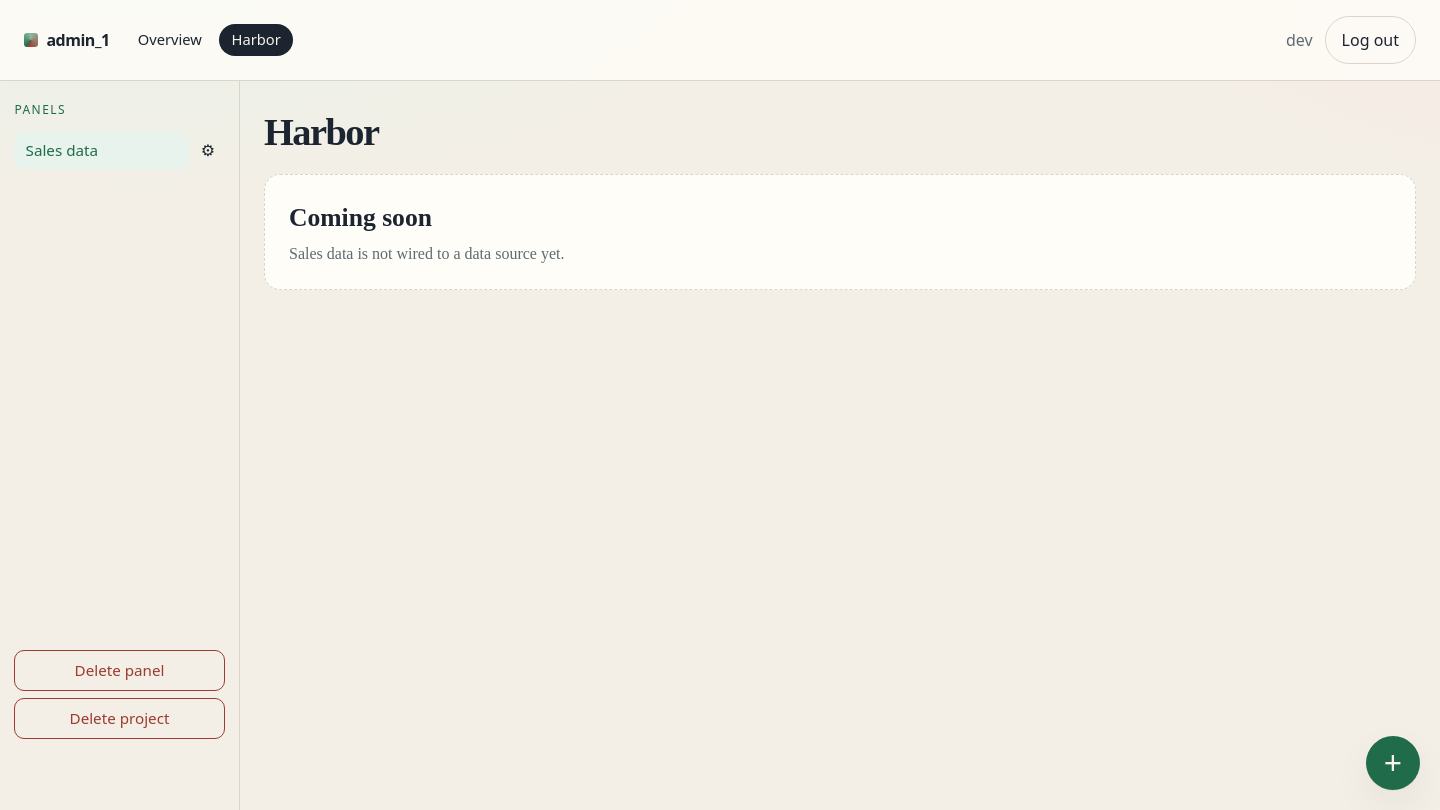
Test: sales data panel › shows fixture revenue after Sales data settings are set to Fake
Expected: the heading "Coming soon" is shown, [289,203,432,232]
Click the link named "Sales data settings": point(208, 150) [201,142,215,159]
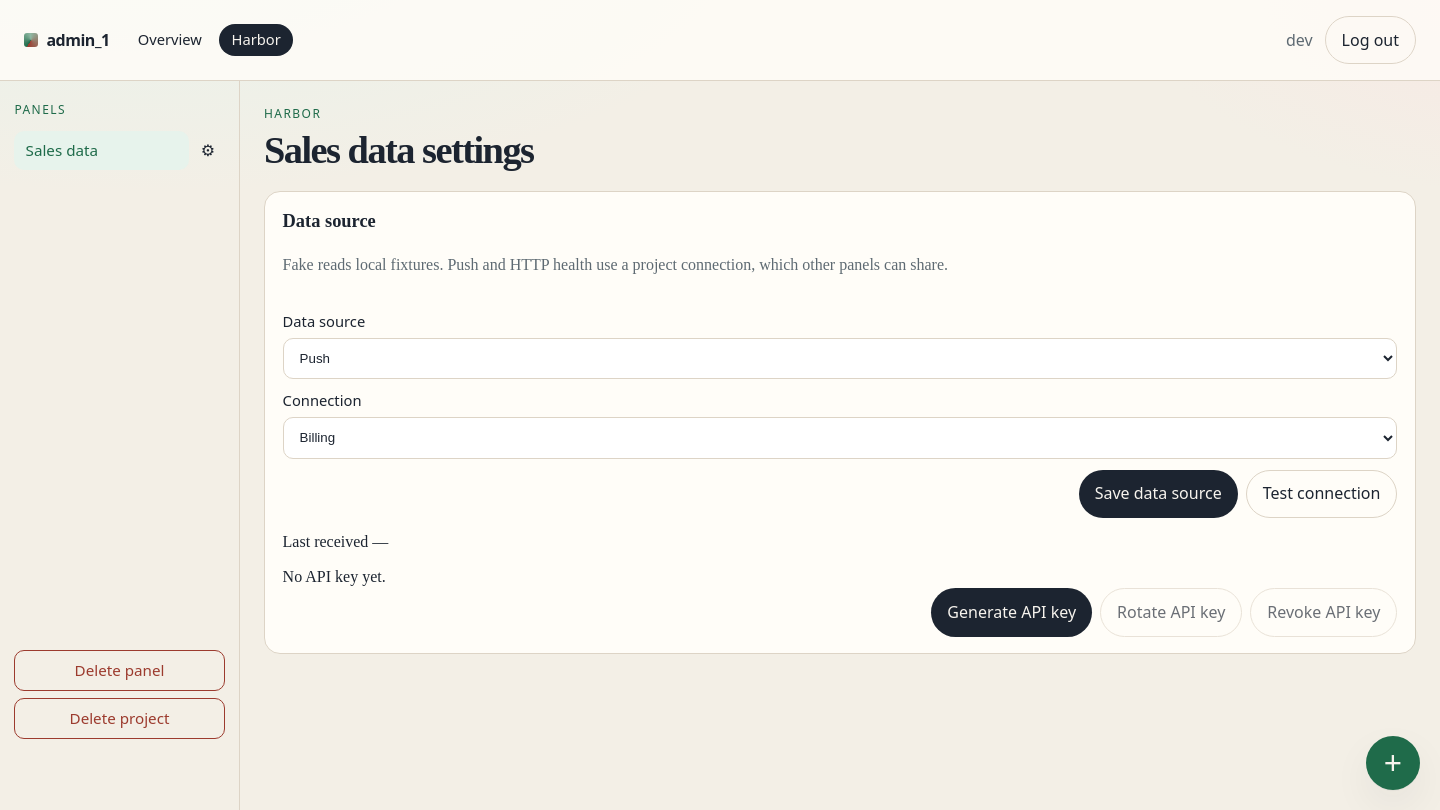
Expected: the dropdown labelled "Data source" shows "Push"
Select "Fake" in the dropdown labelled "Data source": point(840, 358) [283,338,1397,379]
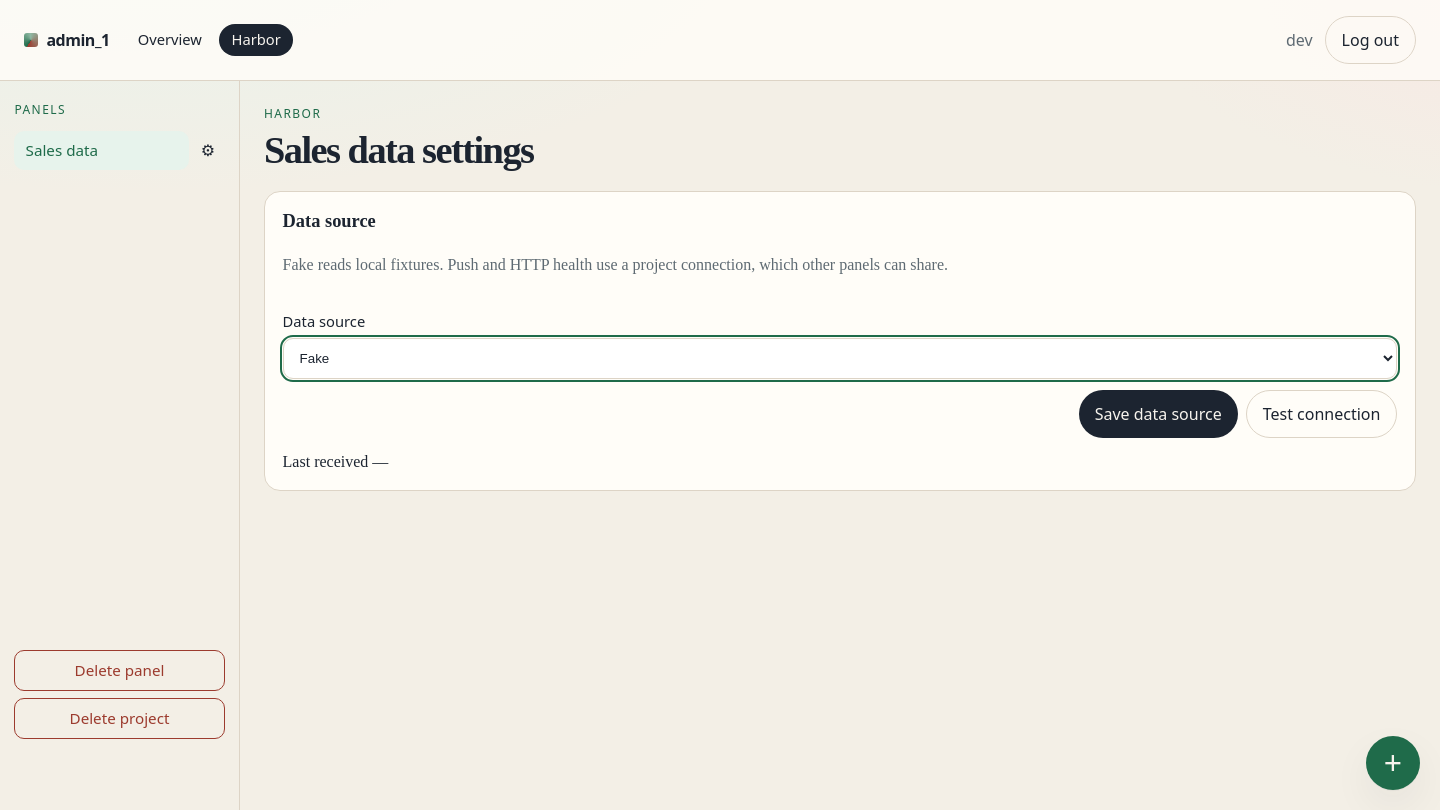
Click the button "Save data source": point(1158, 414) [1079,390,1238,438]
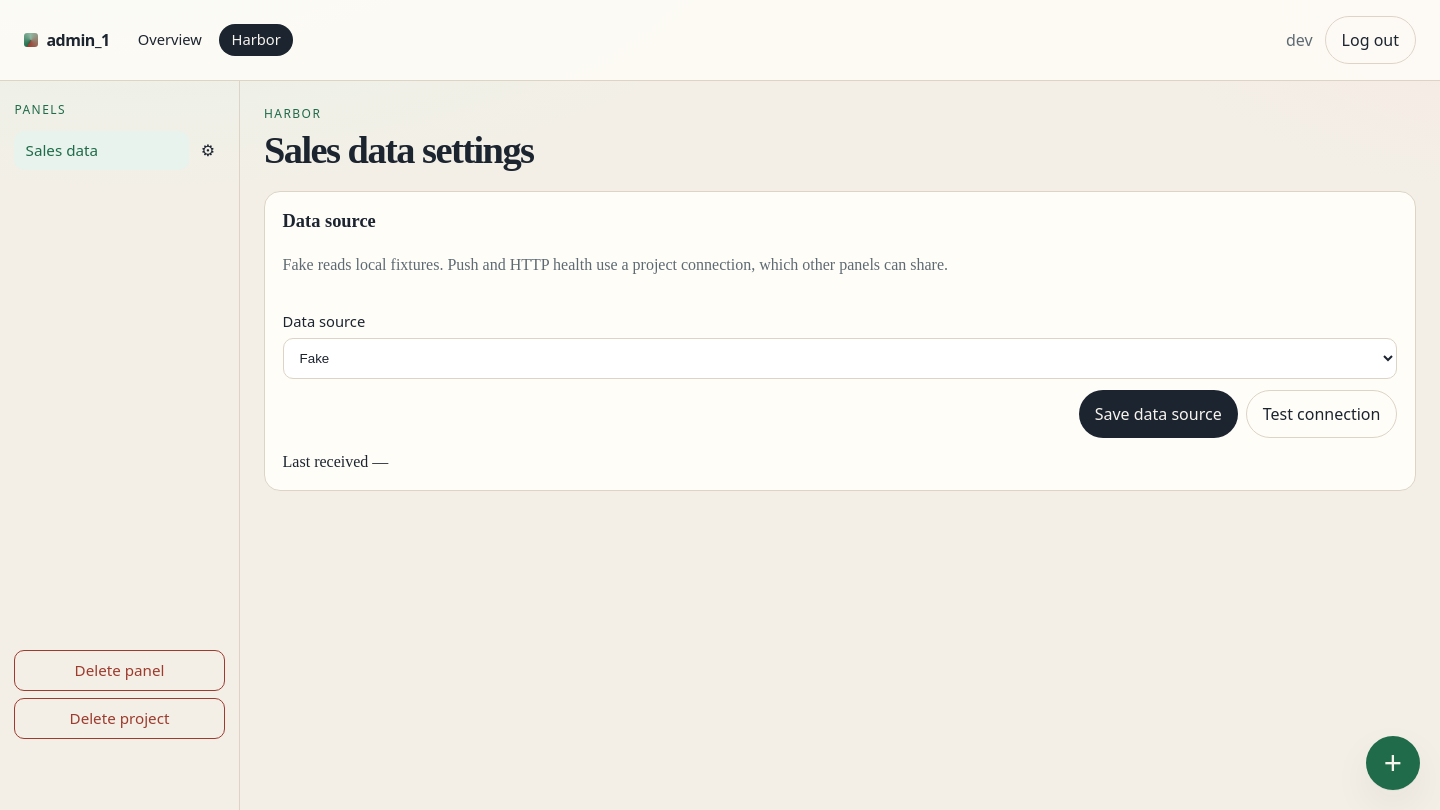
Click the button "Sales data": point(102, 150) [14,131,189,170]
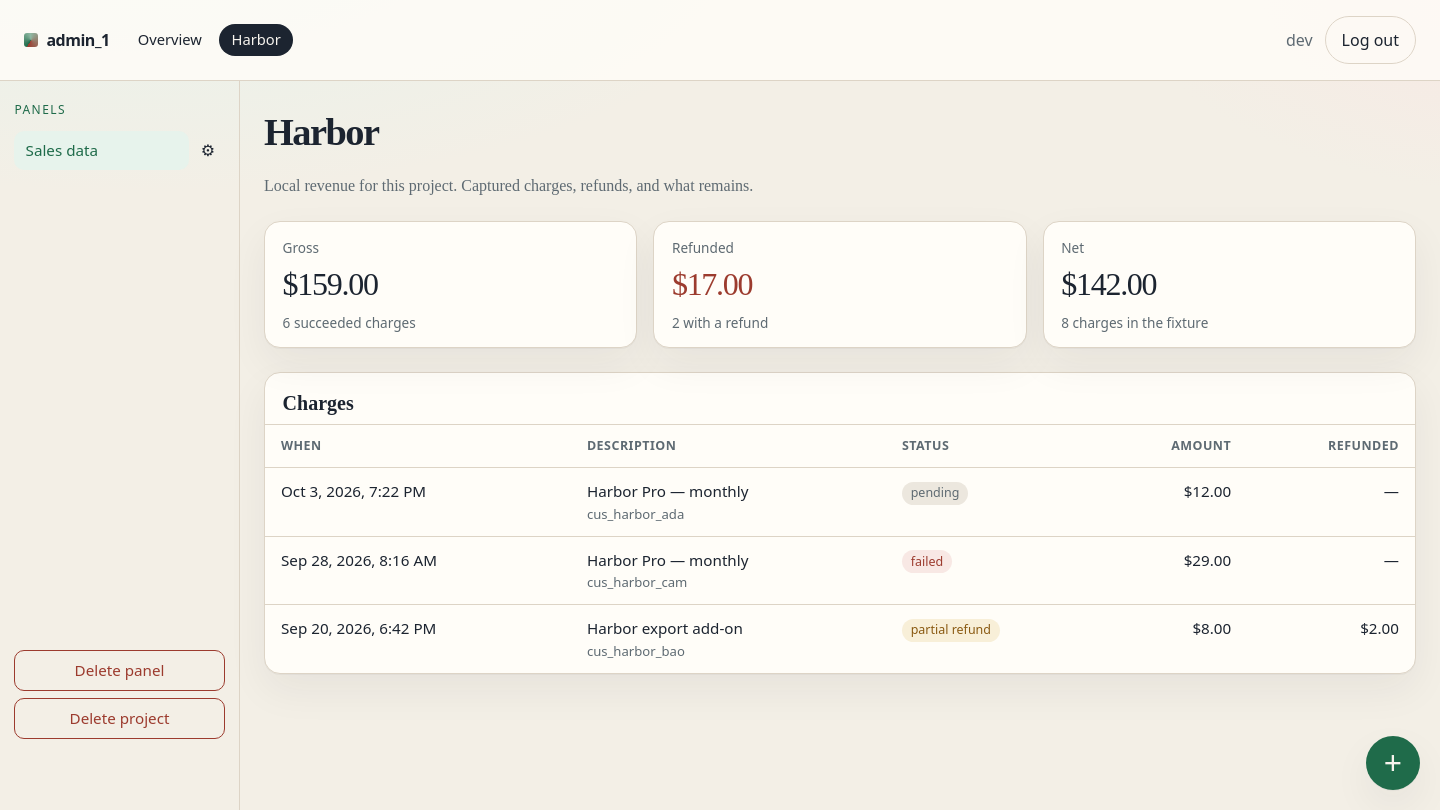
Expected: the heading "Coming soon" is not shown
Expected: the element "Gross" shows "$159.00", [283,266,378,302]
Expected: the element "Net" shows "$142.00", [1061,266,1156,302]
